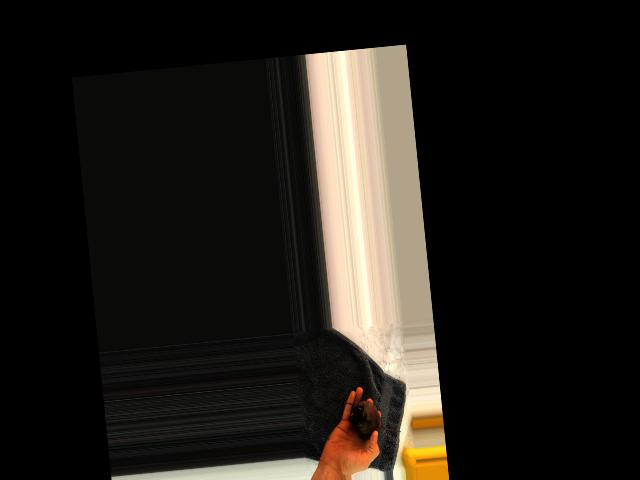beet: (348, 398, 401, 441)
